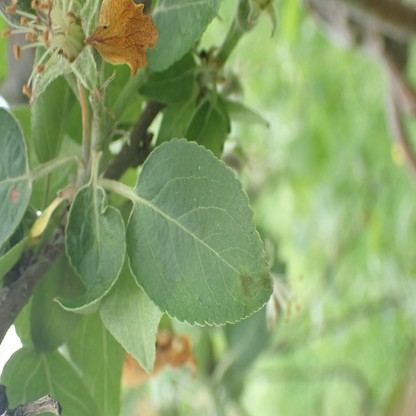frogeye_leaf_spot: (10, 187, 18, 201)
